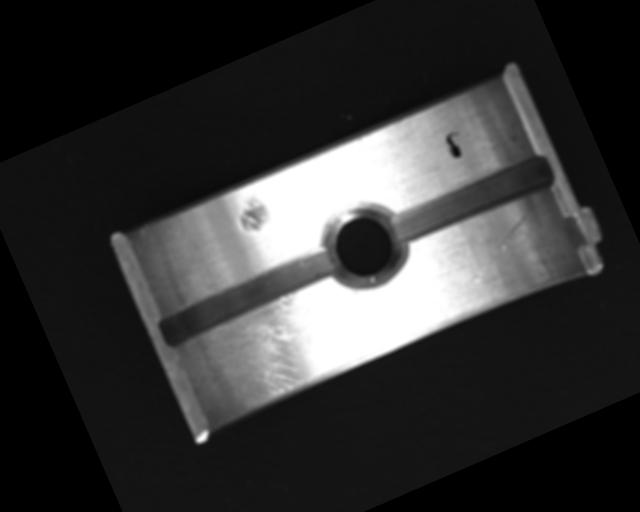blot: (441, 129, 469, 161)
bruise: (231, 189, 274, 237)
gap: (152, 241, 344, 352), (389, 150, 556, 248)
hole: (314, 190, 420, 299)
nick: (454, 208, 551, 285)
scratch: (180, 272, 375, 428)
